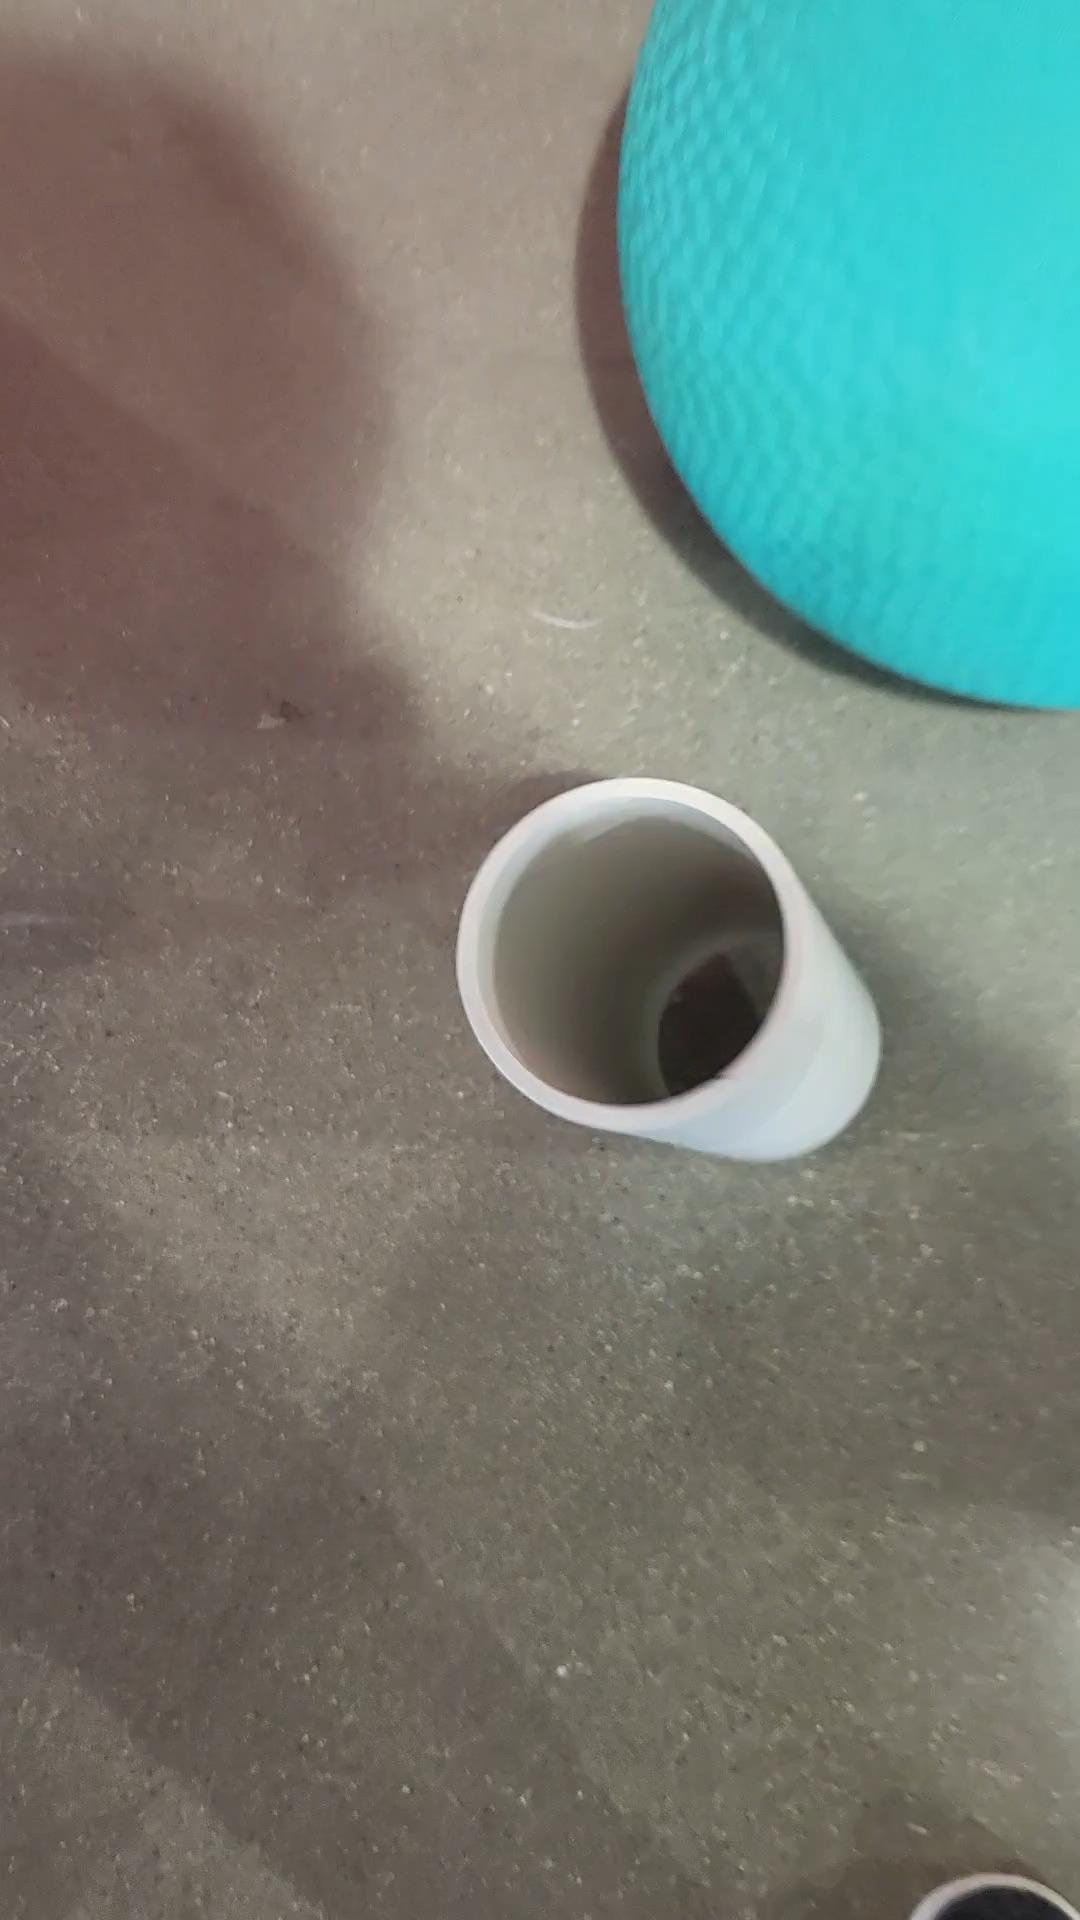algae: (426, 0, 1080, 696)
coral: (386, 696, 874, 1188)
